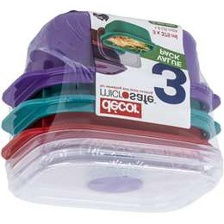plastic_box: (0, 3, 224, 219)
